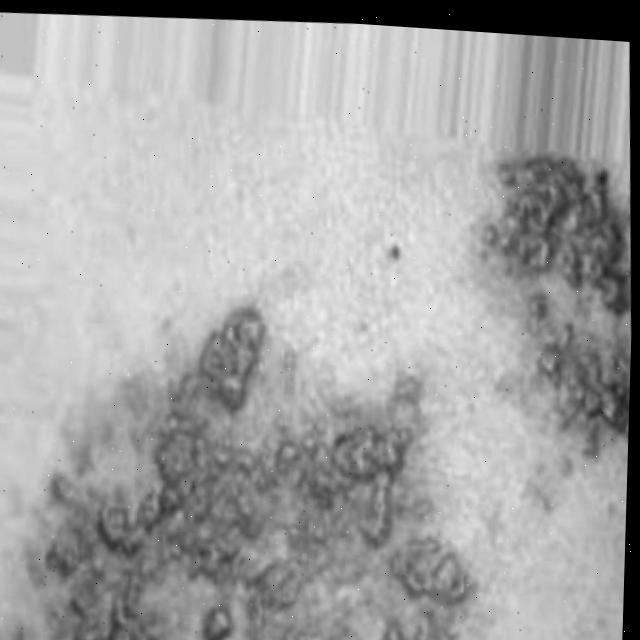Shingles: (12, 284, 479, 640), (478, 145, 637, 445)
